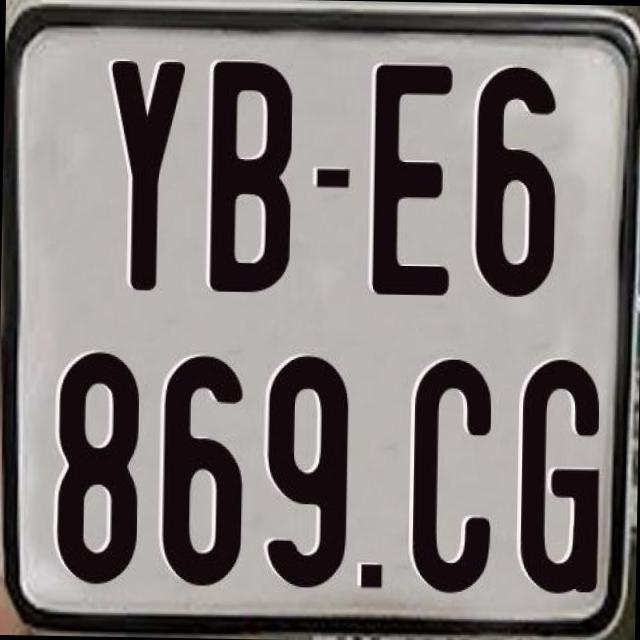6: (161, 351, 251, 591), (474, 65, 560, 304)
8: (55, 346, 144, 582)
9: (263, 350, 349, 588)
B: (207, 59, 298, 291)
C: (408, 358, 494, 598)
E: (370, 63, 458, 303)
G: (516, 357, 598, 597)
Y: (104, 60, 188, 294)
